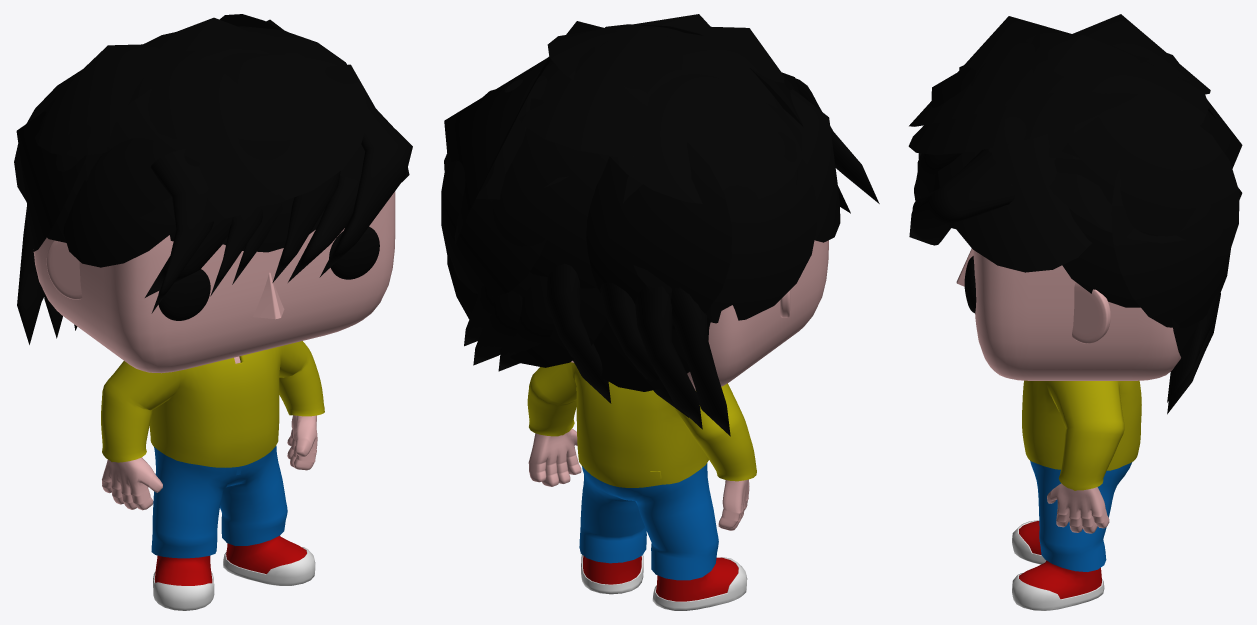
File: KUO.fbx
3 renders of one model, left to right at view 1: azimuth 30°, elevation 25°; view 2: azimuth 150°, elevation 25°; view 3: azimuth 270°, elevation 25°, orthographic. The views are drawn at different scales.
Parts seen in each view (by area): view 1: funko_2:BASE_FUNKO_ORLANDO_3D:polySurface1, funko_2:pCone2, funko_2:pCone4, funko_2:pCone11, funko_2:pCone8, funko_2:pCone19, funko_2:pCone18, funko_2:pCone10, funko_2:pCone5, funko_2:pCone1, funko_2:pCone6, funko_2:pCone16 (+9 smaller); view 2: funko_2:BASE_FUNKO_ORLANDO_3D:polySurface1, funko_2:pCone8, funko_2:pCone9, funko_2:pCone1, funko_2:pCone12, funko_2:pCone10, funko_2:pCone13, funko_2:pCone14, funko_2:pCone2, funko_2:pCone27, funko_2:pCone11, funko_2:pCone28 (+11 smaller); view 3: funko_2:BASE_FUNKO_ORLANDO_3D:polySurface1, funko_2:pCone14, funko_2:pCone3, funko_2:pCone4, funko_2:pCone13, funko_2:pCone1, funko_2:pCone19, funko_2:pCone2, funko_2:pCone7, funko_2:pCone8, funko_2:pCone24, funko_2:pCone5 (+4 smaller).
Part boxes in pixels (<box>): funko_2:BASE_FUNKO_ORLANDO_3D:polySurface1: <box>33,191,395,610</box>; funko_2:pCone2: <box>80,27,327,224</box>; funko_2:pCone4: <box>220,26,368,206</box>; funko_2:pCone11: <box>63,137,176,267</box>; funko_2:pCone8: <box>35,44,161,156</box>; funko_2:pCone19: <box>319,103,412,277</box>; funko_2:pCone18: <box>150,148,213,313</box>; funko_2:pCone10: <box>16,111,86,251</box>; funko_2:pCone5: <box>201,49,325,252</box>; funko_2:pCone1: <box>152,17,258,54</box>; funko_2:pCone6: <box>107,88,201,241</box>; funko_2:pCone16: <box>272,171,340,282</box>; funko_2:BASE_FUNKO_ORLANDO_3D:polySurface1: <box>527,240,828,610</box>; funko_2:pCone8: <box>609,74,802,203</box>; funko_2:pCone9: <box>586,142,732,329</box>; funko_2:pCone1: <box>518,27,682,156</box>; funko_2:pCone12: <box>492,98,609,288</box>; funko_2:pCone10: <box>623,160,817,323</box>; funko_2:pCone13: <box>441,89,546,297</box>; funko_2:pCone14: <box>444,57,550,244</box>; funko_2:pCone2: <box>595,24,809,168</box>; funko_2:pCone27: <box>635,286,702,429</box>; funko_2:pCone11: <box>783,89,840,242</box>; funko_2:pCone28: <box>671,288,730,436</box>; funko_2:BASE_FUNKO_ORLANDO_3D:polySurface1: <box>956,248,1180,610</box>; funko_2:pCone14: <box>1054,106,1239,307</box>; funko_2:pCone3: <box>938,116,1091,272</box>; funko_2:pCone4: <box>908,38,1138,154</box>; funko_2:pCone13: <box>1111,169,1230,328</box>; funko_2:pCone1: <box>1047,35,1209,159</box>; funko_2:pCone19: <box>909,149,1015,245</box>; funko_2:pCone2: <box>909,16,1149,126</box>; funko_2:pCone7: <box>1049,124,1186,243</box>; funko_2:pCone8: <box>1073,14,1210,94</box>; funko_2:pCone24: <box>1167,293,1218,402</box>; funko_2:pCone5: <box>931,34,1040,190</box>.
Bounding box in the file's own units: 8.15 × 12.74 × 7.13.
